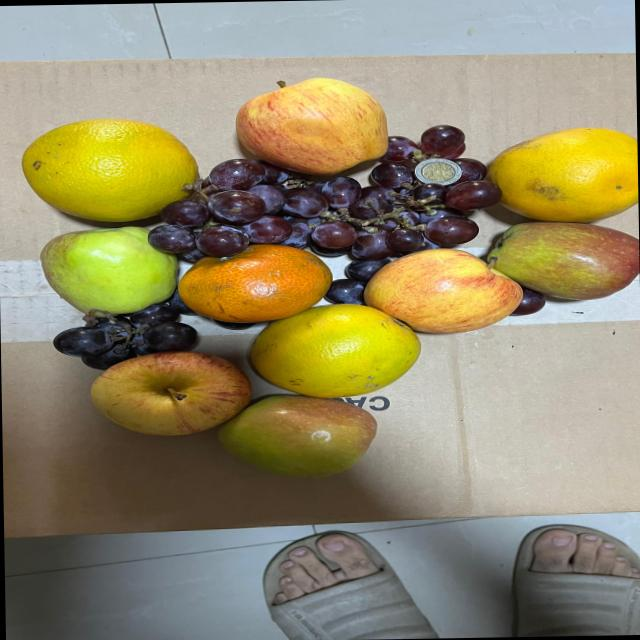moneda: (412, 153, 464, 189)
